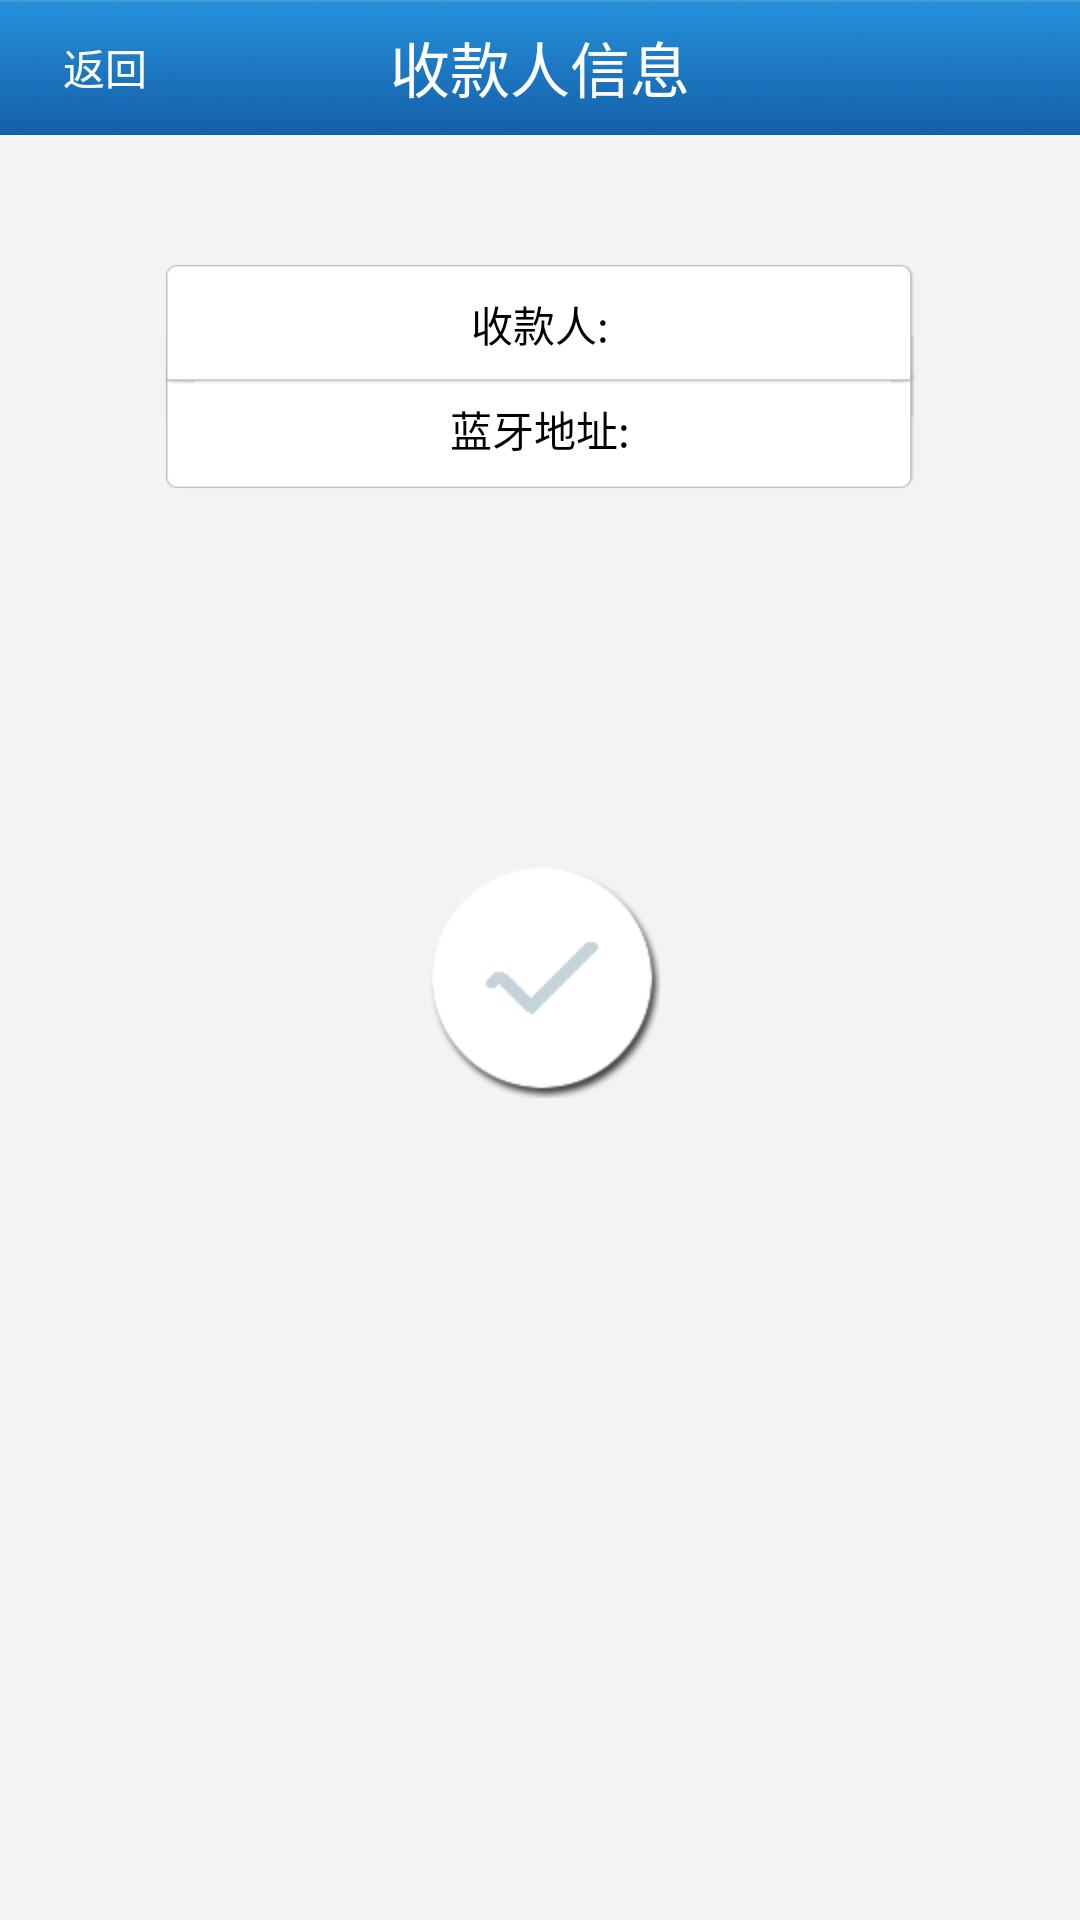

Screen size 1080px x 1920px. Icon name, then its box in pixels as detection(x1, y1, x2, y2):
tabs confirm: detection(431, 868, 660, 1098)
